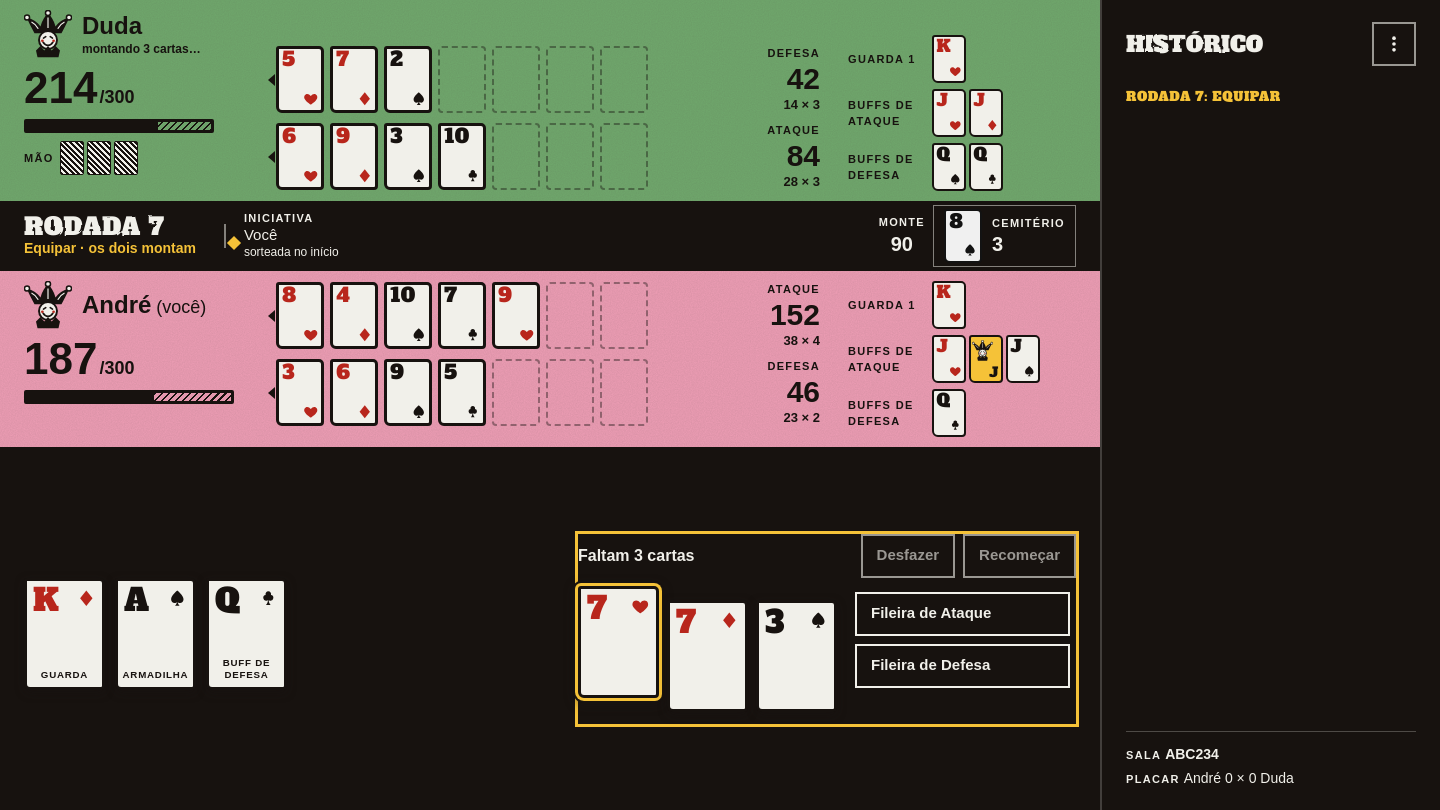
Test: Equipar (spec §3.5; livre desde a E2 do sub-projeto 5) › Desfazer e Recomeçar ficam desligados enquanto não há escolha
Expected: the button "Desfazer" is disabled, [861,534,955,578]
Expected: the button "Recomeçar" is disabled, [963,534,1076,578]
Step 1. Click the button "Fileira de Ataque" → click(962, 614), box [855,592,1070,636]
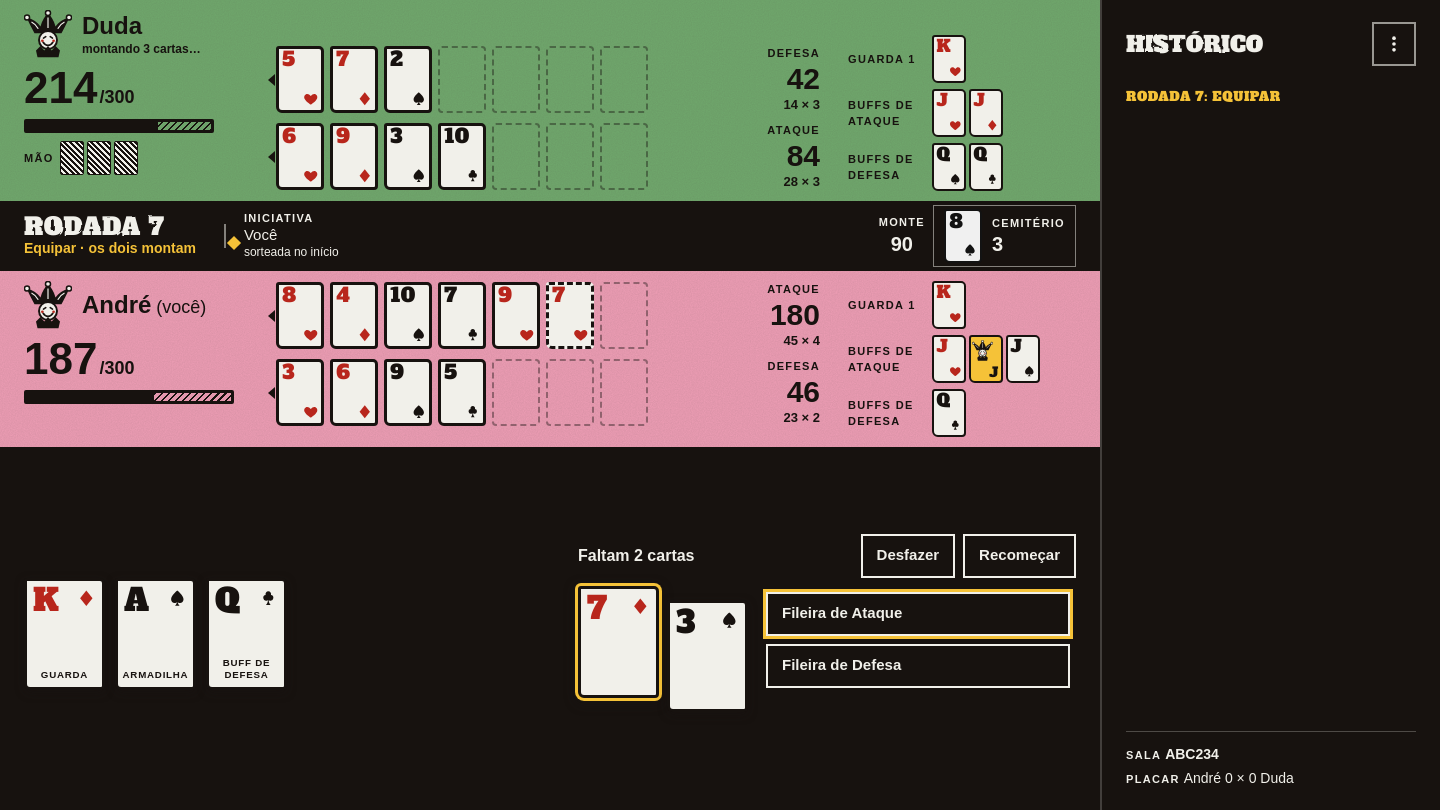
Expected: the button "Desfazer" is enabled, [861,534,955,578]
Expected: the button "Recomeçar" is enabled, [963,534,1076,578]
